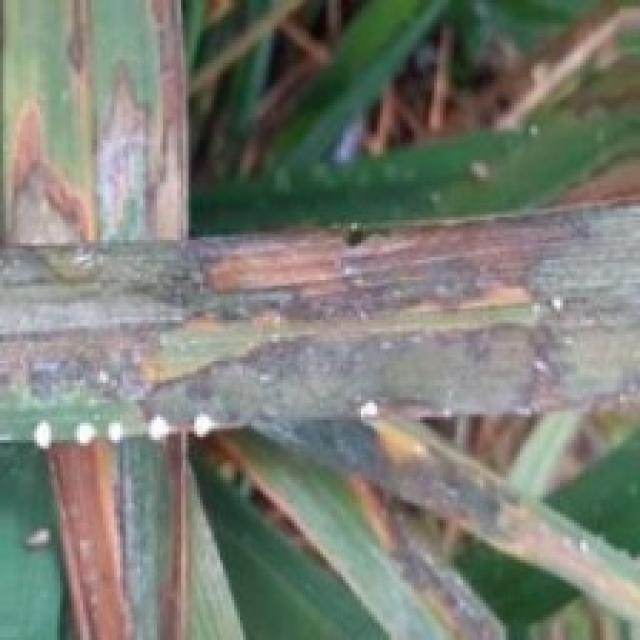Bacterial_Blight: (0, 196, 640, 459), (3, 105, 133, 640), (144, 0, 186, 239)
Rice_Blast: (355, 410, 640, 640), (346, 474, 514, 640), (101, 63, 154, 238), (52, 0, 92, 77)
